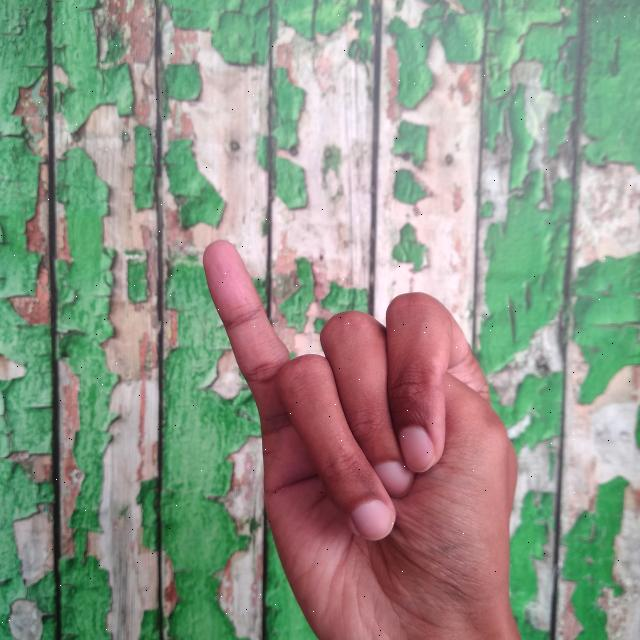I: (197, 229, 534, 640)
